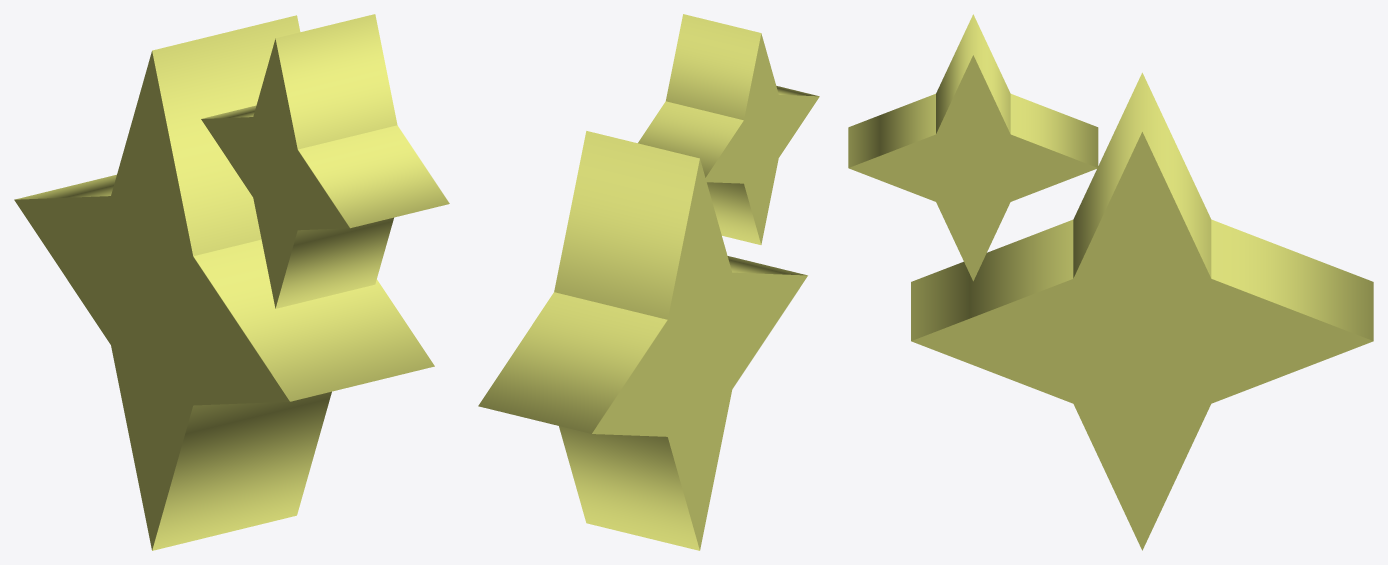
File: Invincibility.fbx
The picture shows the model from 3 angles, left to right: view 1: azimuth 30°, elevation 25°; view 2: azimuth 150°, elevation 25°; view 3: azimuth 270°, elevation 25°; orthographic projection. The views are drawn at different scales.
Parts seen in each view (by area): view 1: Sparkle1, Sparkle2; view 2: Sparkle1, Sparkle2; view 3: Sparkle1, Sparkle2.
Boxes of the visible parts, bbox=[...] form: Sparkle1: bbox=[14, 15, 434, 550]; Sparkle2: bbox=[201, 14, 449, 308]; Sparkle1: bbox=[478, 131, 807, 550]; Sparkle2: bbox=[638, 14, 819, 244]; Sparkle1: bbox=[911, 72, 1373, 550]; Sparkle2: bbox=[848, 14, 1098, 281].
Bounding box in the file's own units: 0.4136 × 1.58 × 1.55.
